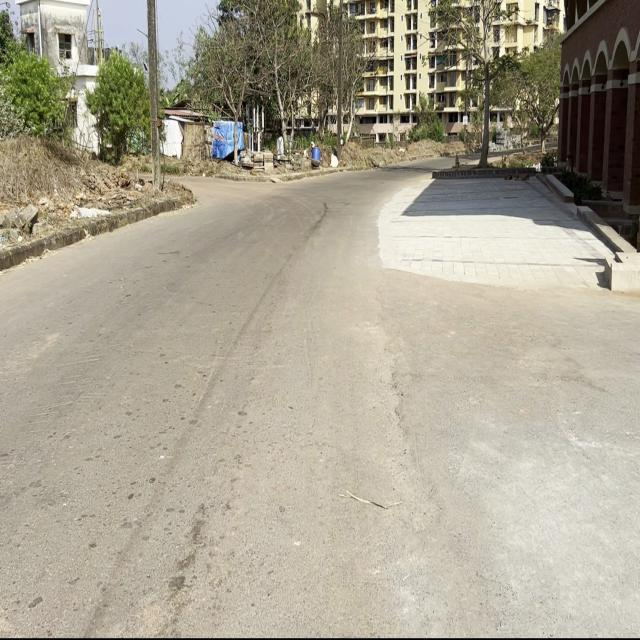Road: (0, 173, 496, 638)
